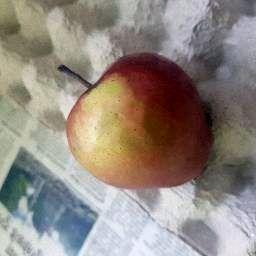apple: (13, 29, 236, 190)
